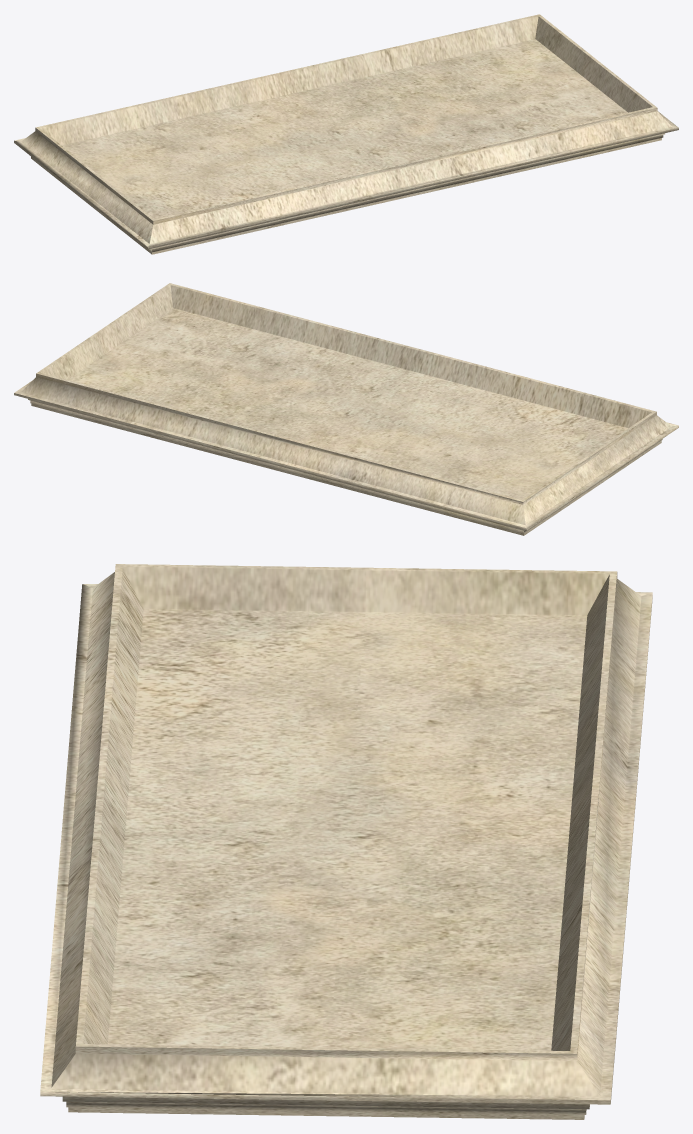
File: concrete_27.fbx
3 views of the same model, one above another, from view 1: azimuth 30°, elevation 25°; view 2: azimuth 150°, elevation 25°; view 3: azimuth 270°, elevation 25° (orthographic). The views are drawn at different scales.
Parts seen in each view (by area): view 1: concrete_27; view 2: concrete_27; view 3: concrete_27.
Part boxes in pixels (x1,y1,x2,y2): concrete_27: (14, 14, 678, 254); concrete_27: (14, 283, 678, 535); concrete_27: (40, 564, 652, 1119).
Bounding box in the file's own units: 768 × 43.86 × 385.
